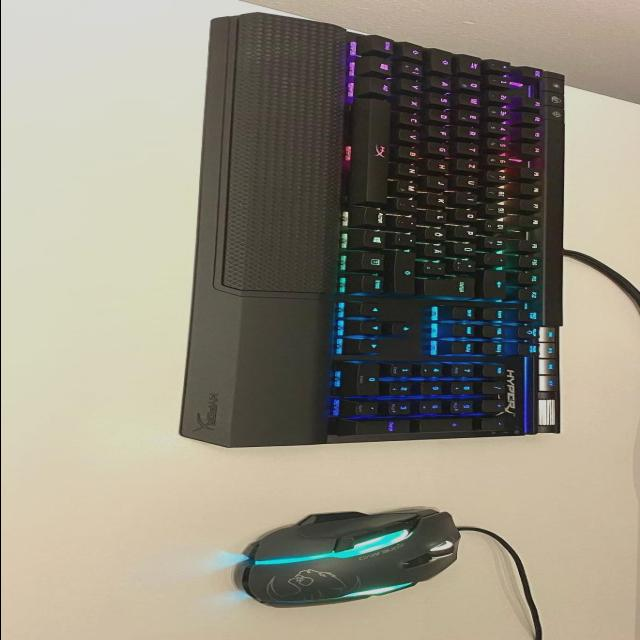0: (488, 217, 510, 231)
1: (490, 75, 514, 87)
2: (492, 90, 514, 102)
3: (490, 105, 512, 117)
4: (489, 121, 513, 133)
5: (489, 138, 513, 150)
6: (487, 154, 513, 166)
7: (488, 168, 510, 182)
8: (487, 185, 509, 199)
9: (487, 201, 509, 215)
a: (431, 75, 455, 89)
accent: (486, 252, 510, 264)
ae: (424, 241, 453, 257)
alt-left: (360, 76, 396, 96)
altgr-right: (361, 207, 388, 225)
b: (398, 144, 425, 160)
c: (400, 111, 424, 125)
caret: (491, 59, 515, 71)
comma: (395, 195, 422, 211)
d: (430, 108, 454, 122)
del: (486, 268, 508, 298)
e: (458, 108, 484, 123)
enter: (424, 276, 480, 297)
f: (430, 124, 456, 138)
g: (429, 141, 453, 154)
h: (430, 158, 456, 172)
hash: (423, 260, 454, 274)
i: (457, 191, 483, 204)
j: (428, 175, 454, 189)
k: (427, 192, 451, 206)
keyboard: (317, 33, 553, 443)
l: (426, 208, 453, 222)
less: (400, 61, 426, 76)
m: (395, 179, 422, 193)
minus: (395, 232, 417, 245)
n: (397, 162, 425, 176)
o: (456, 207, 482, 221)
oe: (424, 225, 450, 239)
p: (456, 224, 482, 237)
plus: (453, 257, 481, 271)
point: (395, 214, 419, 228)
q: (458, 77, 485, 91)
r: (458, 125, 482, 139)
s: (430, 91, 456, 105)
shift-left: (403, 41, 427, 59)
shift-lock: (432, 48, 454, 73)
shift-right: (396, 249, 418, 295)
space: (356, 96, 394, 204)
ss: (487, 235, 511, 249)
strg-left: (362, 34, 396, 54)
strg-right: (359, 273, 390, 295)
t: (459, 141, 483, 155)
tab: (459, 53, 485, 74)
u: (457, 175, 483, 188)
ue: (454, 240, 480, 254)
v: (399, 128, 425, 142)
w: (458, 93, 486, 107)
x: (401, 95, 427, 109)
y: (401, 78, 425, 92)
z: (458, 158, 482, 171)
